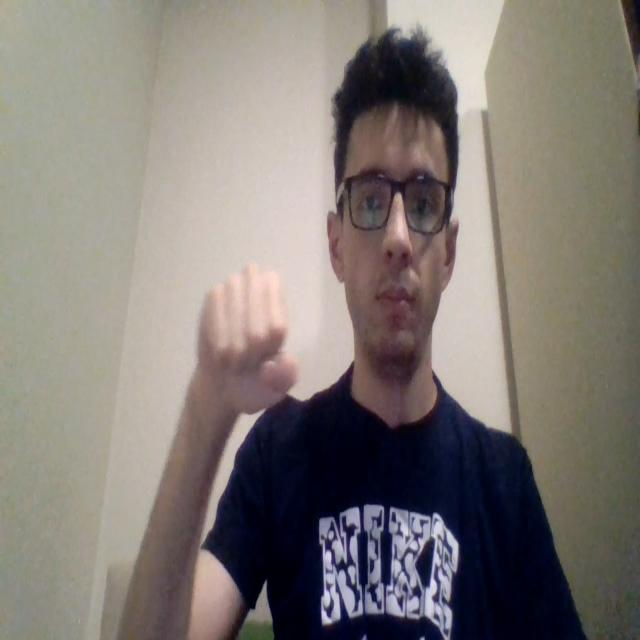yes: (195, 261, 299, 416)
